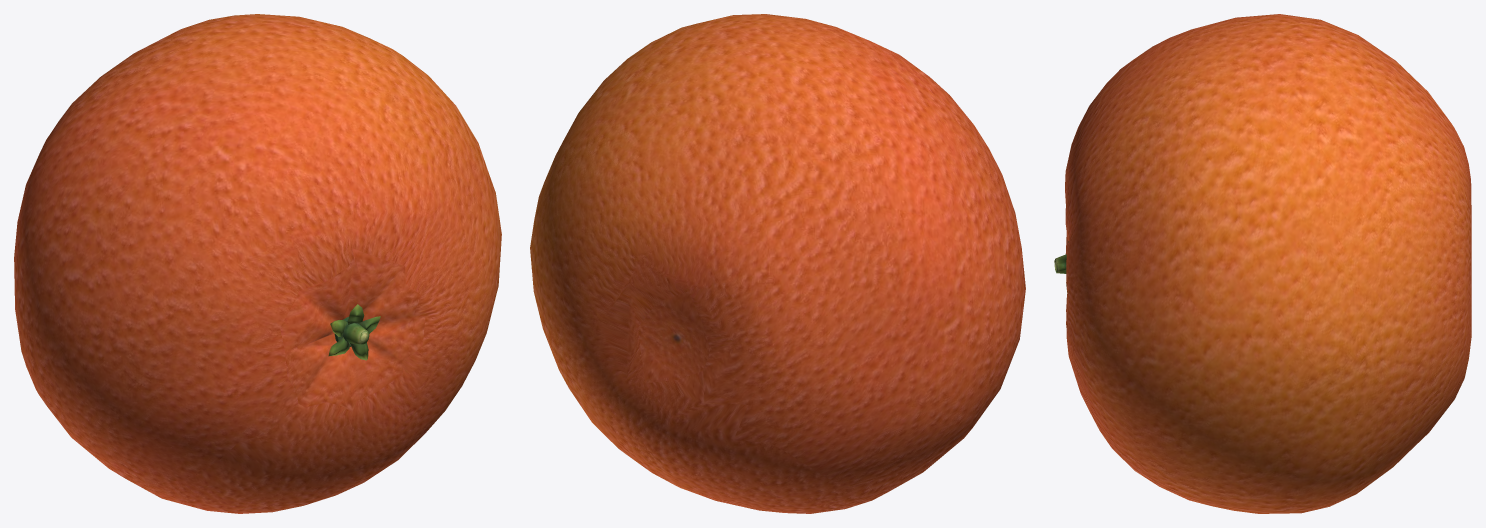
Rendered from 12204_Fruit_v1_L3.obj.
The picture shows the model from 3 angles, left to right: view 1: azimuth 30°, elevation 25°; view 2: azimuth 150°, elevation 25°; view 3: azimuth 270°, elevation 25°; orthographic projection.
Parts seen in each view (by area): view 1: 12204_Fruit_v1_L3; view 2: 12204_Fruit_v1_L3; view 3: 12204_Fruit_v1_L3.
Boxes of the visible parts, <box> form: 12204_Fruit_v1_L3: <box>14,14,501,513</box>; 12204_Fruit_v1_L3: <box>530,14,1025,513</box>; 12204_Fruit_v1_L3: <box>1054,14,1471,513</box>.
Bounding box in the file's own units: 9.54 × 9.53 × 7.87.
Materials: 1 (1 with a texture image).
